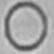no answer: (3, 0, 48, 52)
